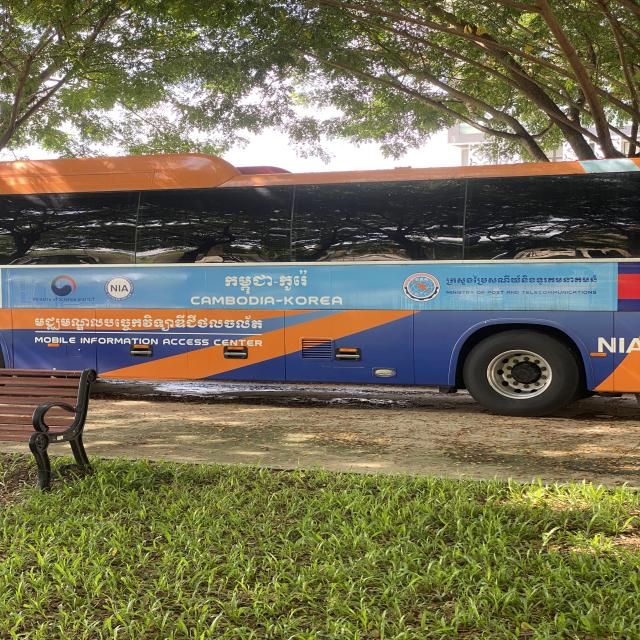Yolov11_80vkh: (33, 314, 263, 334), (444, 270, 603, 287), (219, 267, 318, 294)
